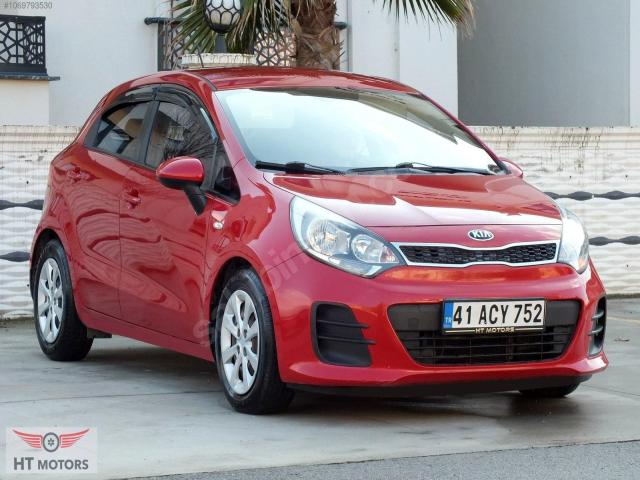plaka: (443, 300, 546, 332)
